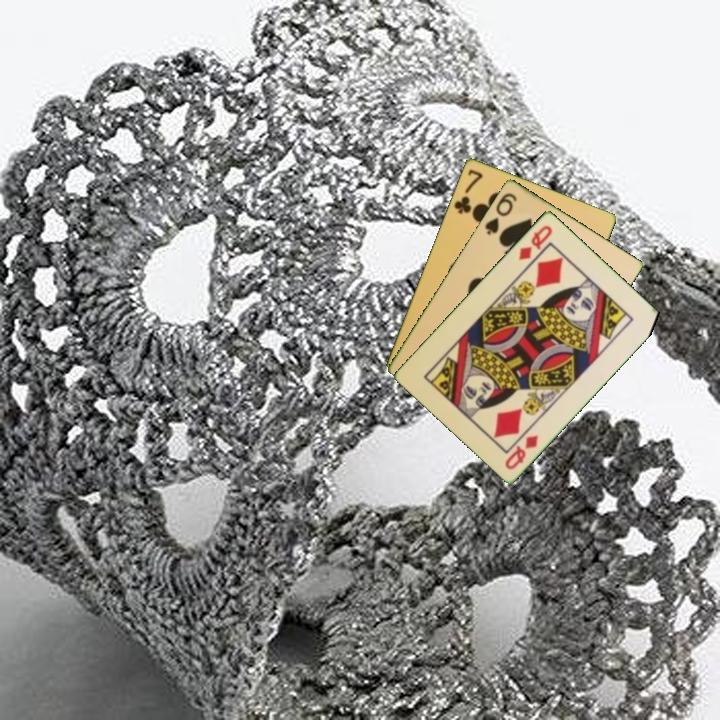6s: (481, 189, 520, 237)
7c: (450, 165, 485, 217)
Qd: (515, 221, 556, 263), (501, 431, 541, 472)
